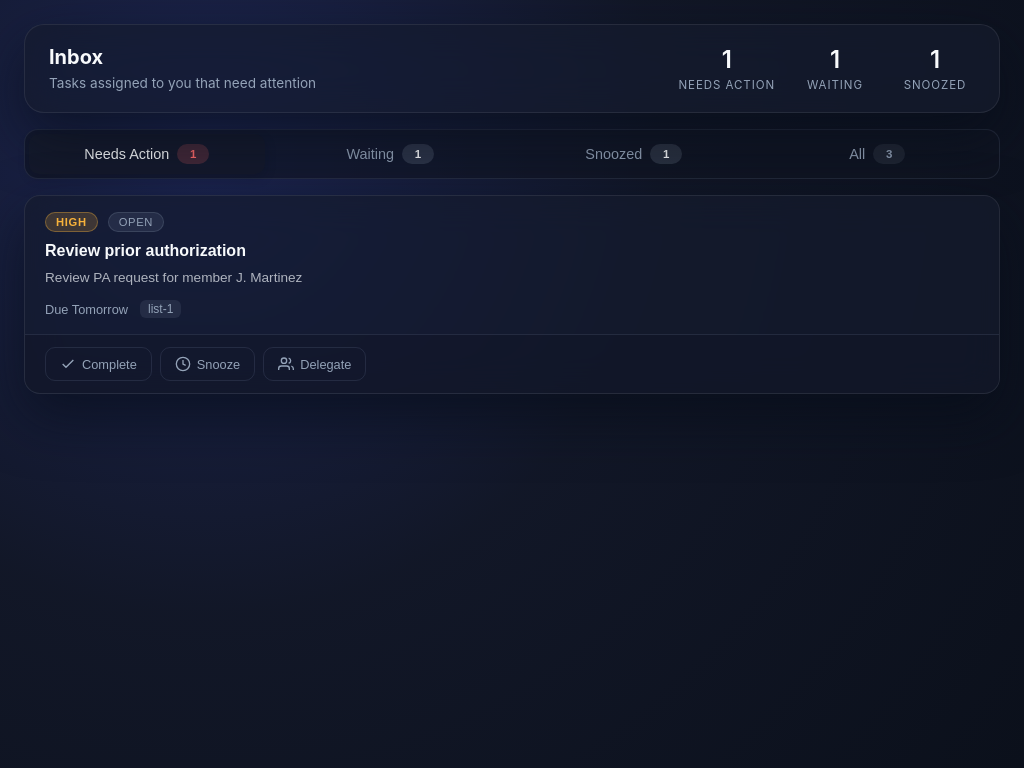
Test: InboxView › shows snooze picker when snooze button is clicked
Step 1. Click the button titled "Snooze task" → point(208, 364), box [160, 347, 255, 381]
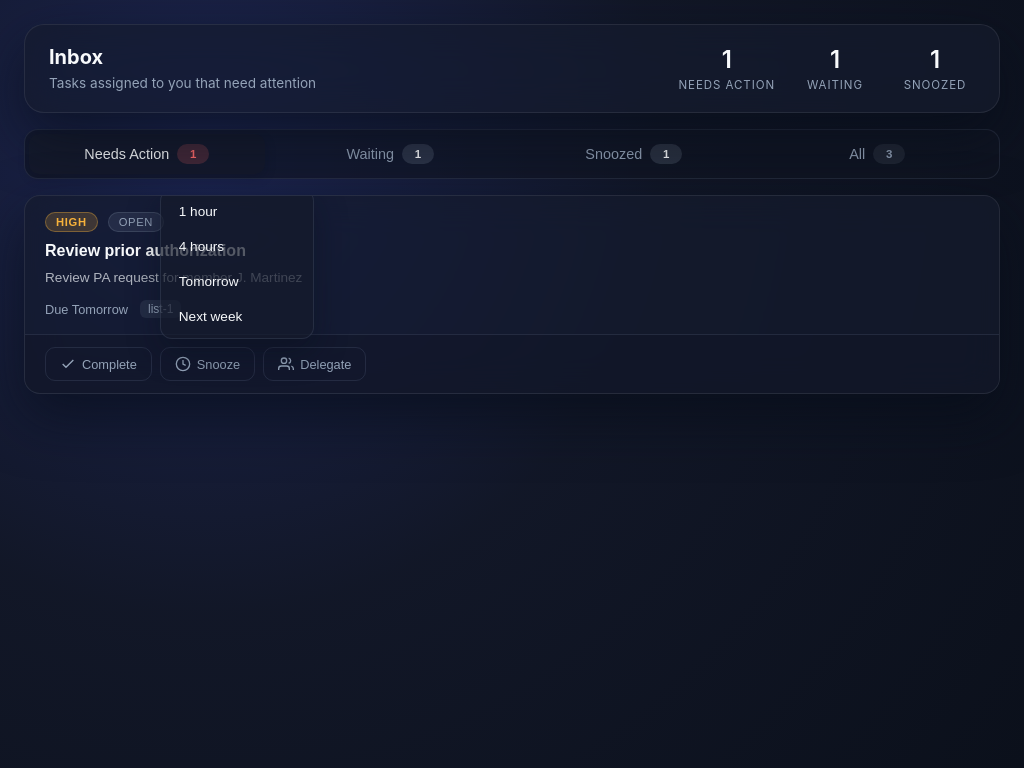
Result: the button "1 hour" is shown at [167, 196, 307, 227]
Result: the button "Tomorrow" is shown at [167, 266, 307, 297]
